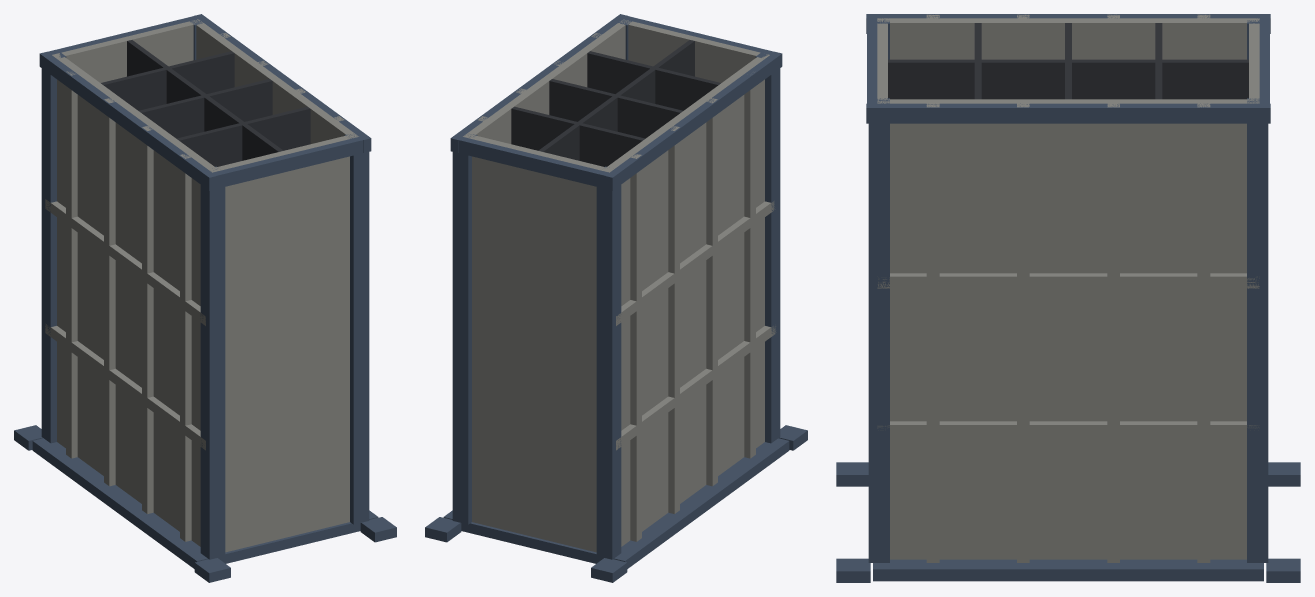
The model's file is pb8_housing.obj.
3 renders of one model, left to right at view 1: azimuth 30°, elevation 25°; view 2: azimuth 150°, elevation 25°; view 3: azimuth 270°, elevation 25°, orthographic. The views are drawn at different scales.
Parts seen in each view (by area): view 1: pb8_housing; view 2: pb8_housing; view 3: pb8_housing.
Part boxes in pixels (<box>): pb8_housing: <box>14,14,396,582</box>; pb8_housing: <box>425,14,807,582</box>; pb8_housing: <box>836,14,1300,582</box>.
Size of the model in its own units: 0.6 by 1.2 by 1.08.
